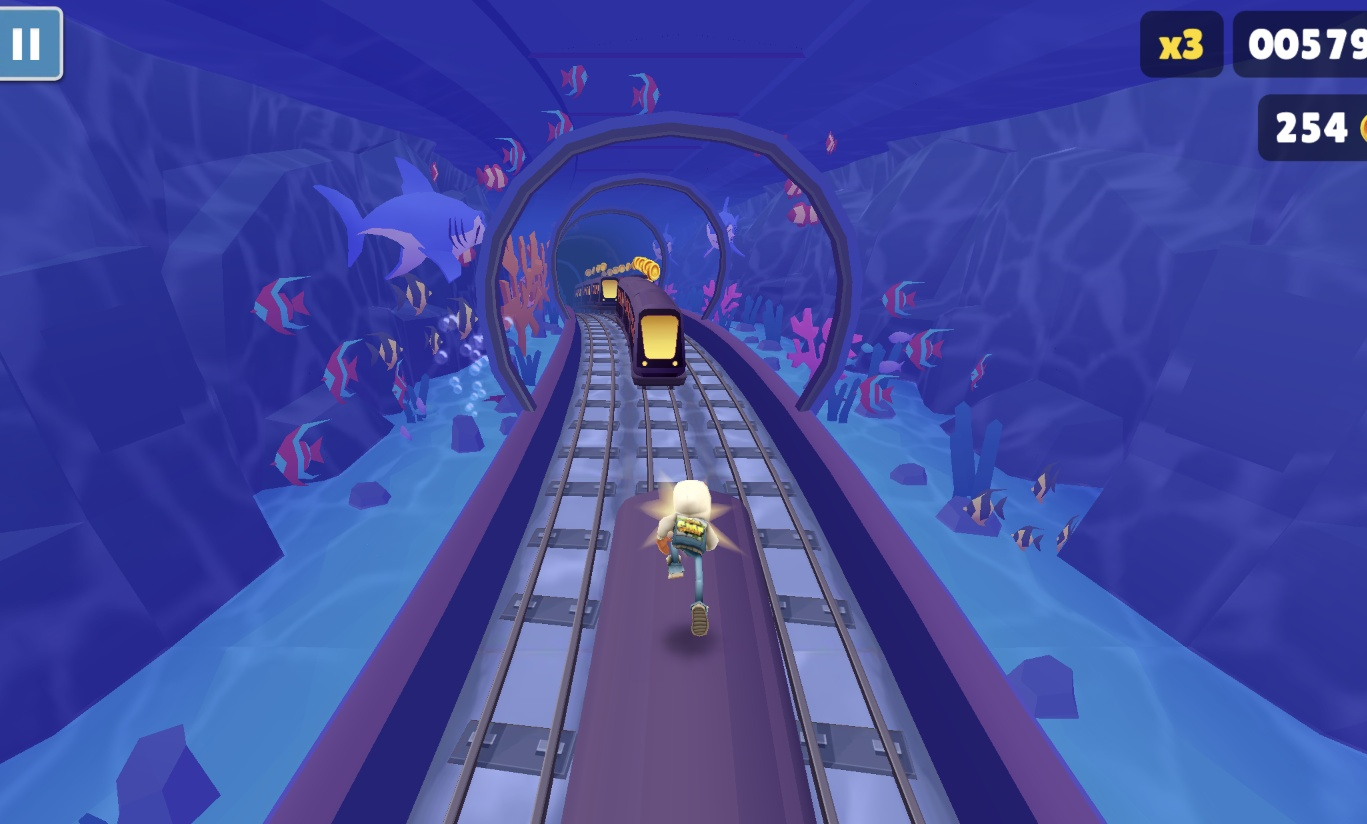train: (550, 491, 824, 824), (614, 279, 686, 386), (573, 276, 618, 305)
